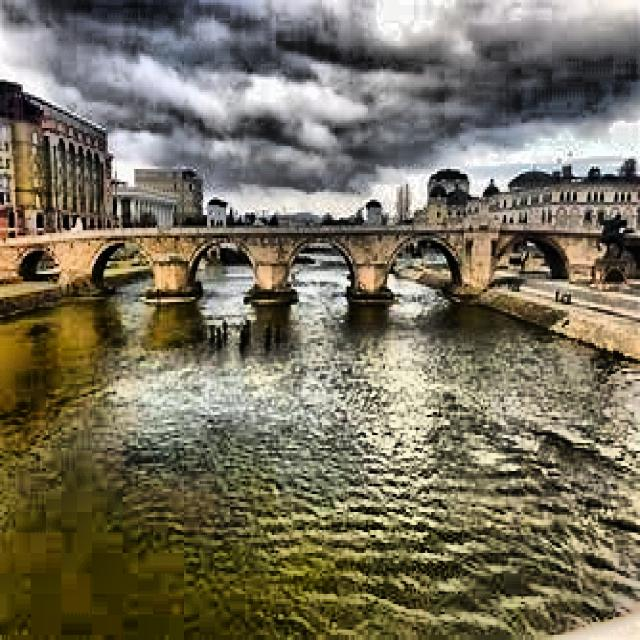stone bridge: (0, 216, 640, 313)
